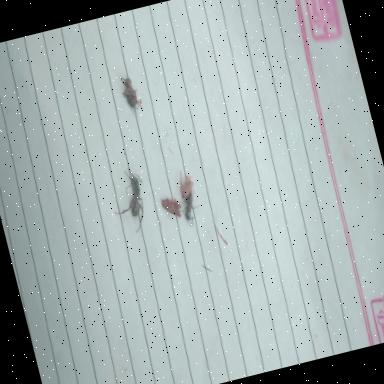pbw: (159, 194, 184, 222), (177, 174, 197, 198)
